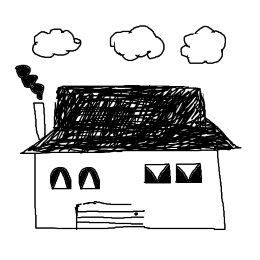clouds: (174, 19, 234, 70), (107, 22, 172, 64), (23, 24, 85, 61)
door: (64, 196, 155, 236)
open_window: (172, 157, 208, 191), (141, 157, 173, 191), (48, 162, 76, 196), (76, 164, 106, 195)
shaded_roof: (15, 79, 244, 160)
smoking_chimney: (9, 61, 53, 140)
wall: (24, 149, 232, 236)
